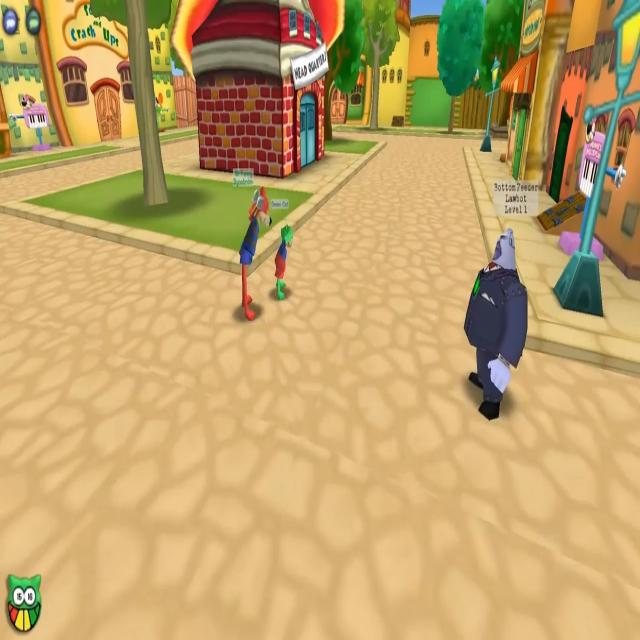bottomfeeder: (459, 178, 542, 428)
